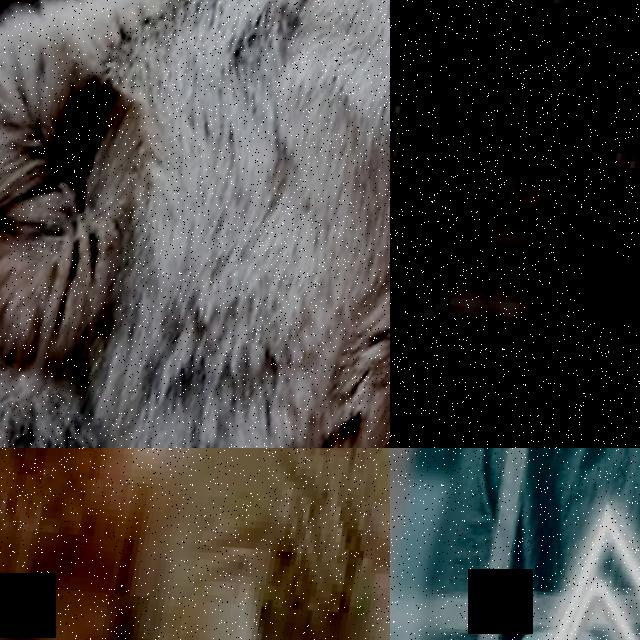dog: (390, 0, 640, 448), (121, 448, 390, 640), (0, 448, 259, 640)
wolf: (0, 0, 390, 448), (390, 448, 466, 640)
